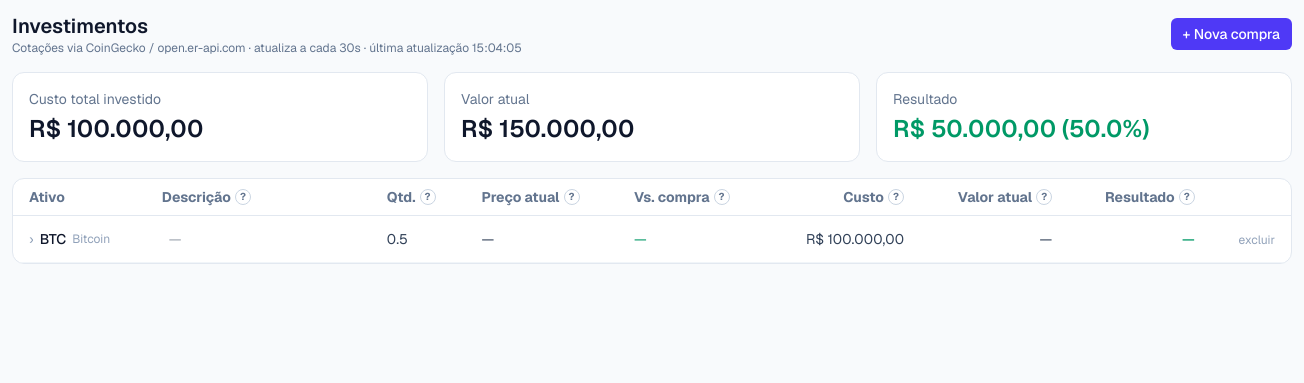
página /investimentos — compras de um ativo › mostra travessão na compra quando a cotação não veio
Check: the text "BTC" is shown, box [40,229,66,249]
Click the button with aria-label "compras de BTC" at (70, 239), box [29,229,110,249]
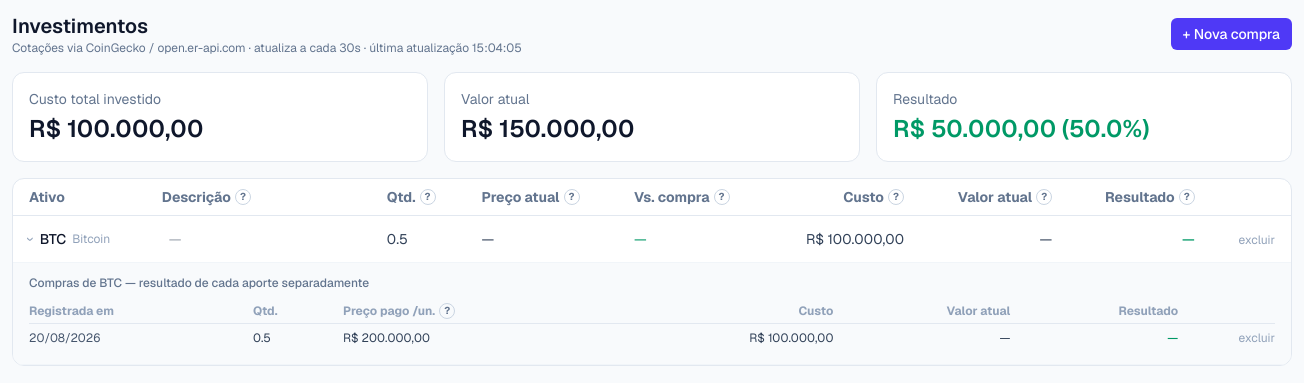
Check: the text "20/08/2026" shows "—", box [1000,330,1010,346]
Check: the text "20/08/2026" shows "R$ 100.000,00", box [749,330,833,346]
